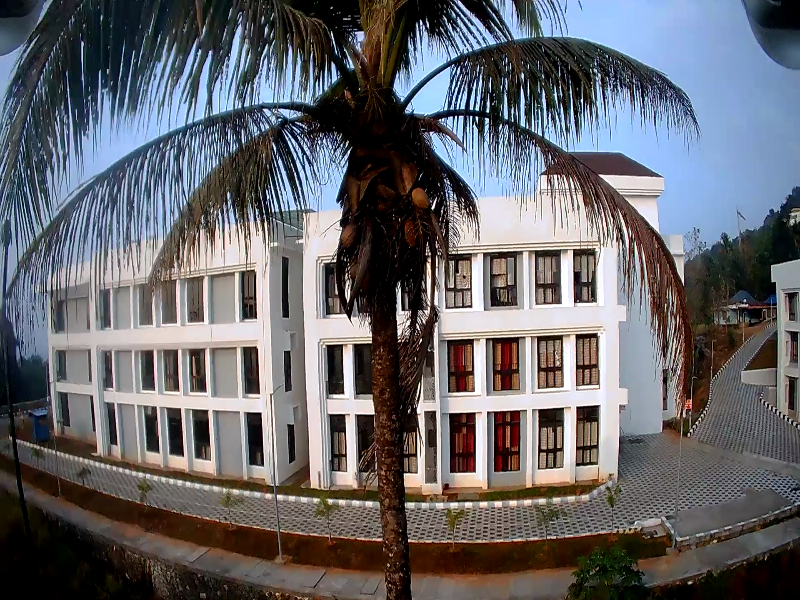coconut: (337, 220, 369, 252), (399, 217, 421, 246), (418, 184, 442, 207)
